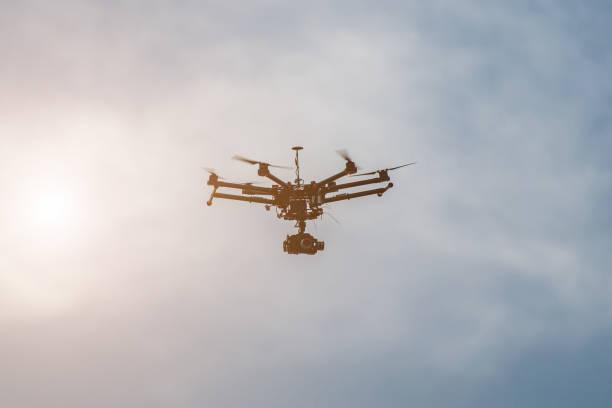camera: (267, 227, 331, 266)
